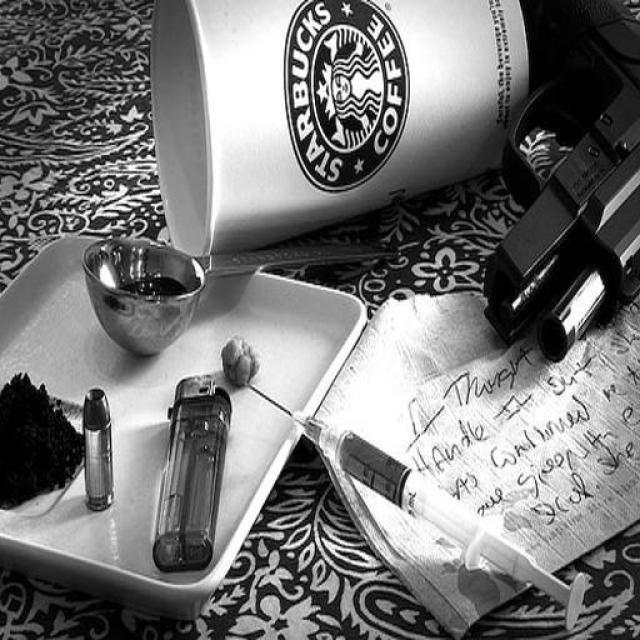pistol: (489, 1, 638, 372)
